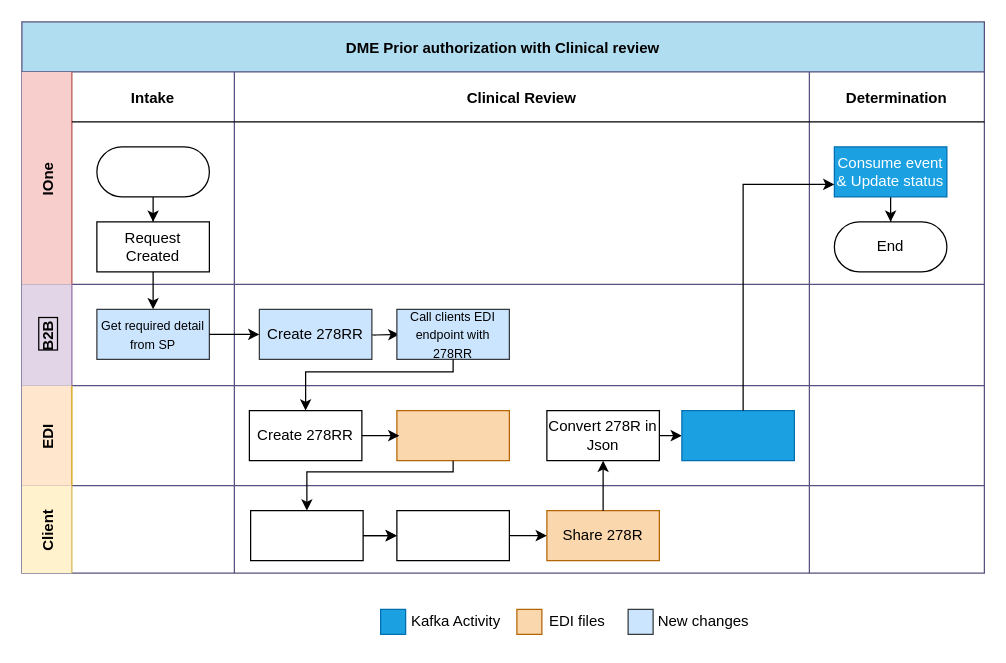
The diagram is 1006 pixels wide and 663 high, and some of its shapes have lost their labels. The centre of each missing label's shape, as x and y in pixels:
"Accept 278RR & Acknowledge" belongs at (306,535).
"Perform clinical Review" belongs at (452,535).
"Publish AuthorizationRequest ConvertedFromEDI Event" belongs at (737,435).
"Share 278RR" belongs at (452,435).
"Start" belongs at (152,171).
